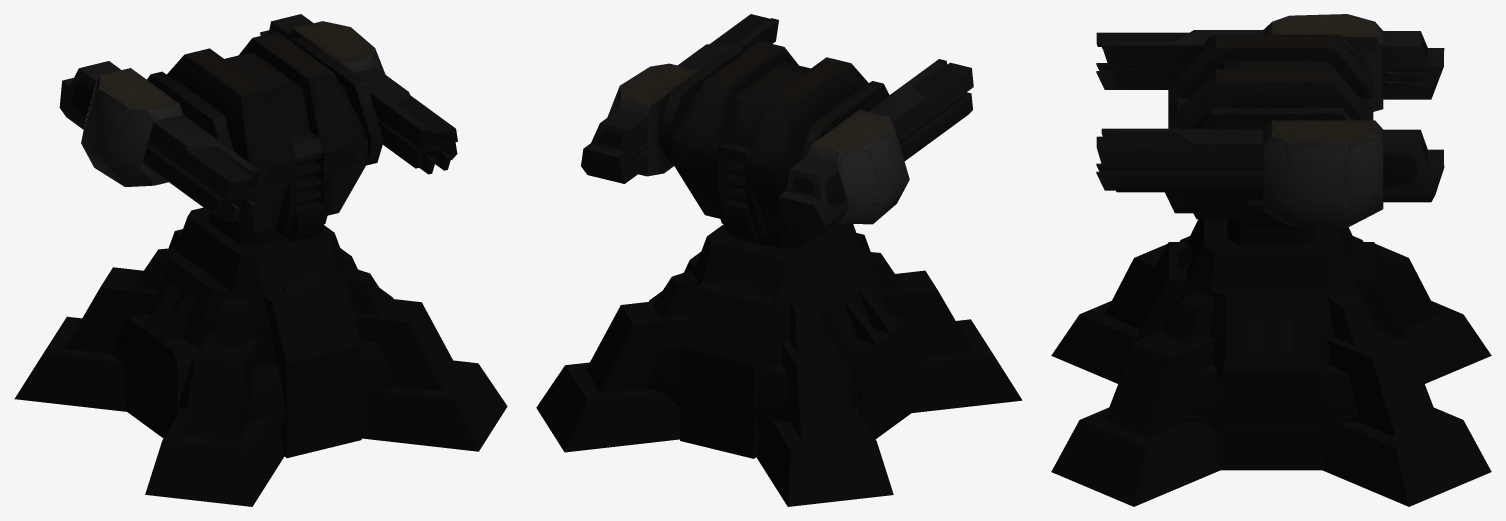
File: turret-gauss.glb
3 views of the same model, side by side, from view 1: azimuth 30°, elevation 25°; view 2: azimuth 150°, elevation 25°; view 3: azimuth 270°, elevation 25° (orthographic). The views are drawn at different scales.
Visible parts, largest first — view 1: turret-gauss-lod0; view 2: turret-gauss-lod0; view 3: turret-gauss-lod0.
Boxes of the visible parts, box(x1,y1,x2,y2) form: turret-gauss-lod0: box(14, 14, 507, 506); turret-gauss-lod0: box(536, 14, 1022, 506); turret-gauss-lod0: box(1051, 14, 1491, 506).
Bounding box in the file's own units: 5.41 × 4.82 × 5.41.
Materials: 3 (2 with a texture image).
